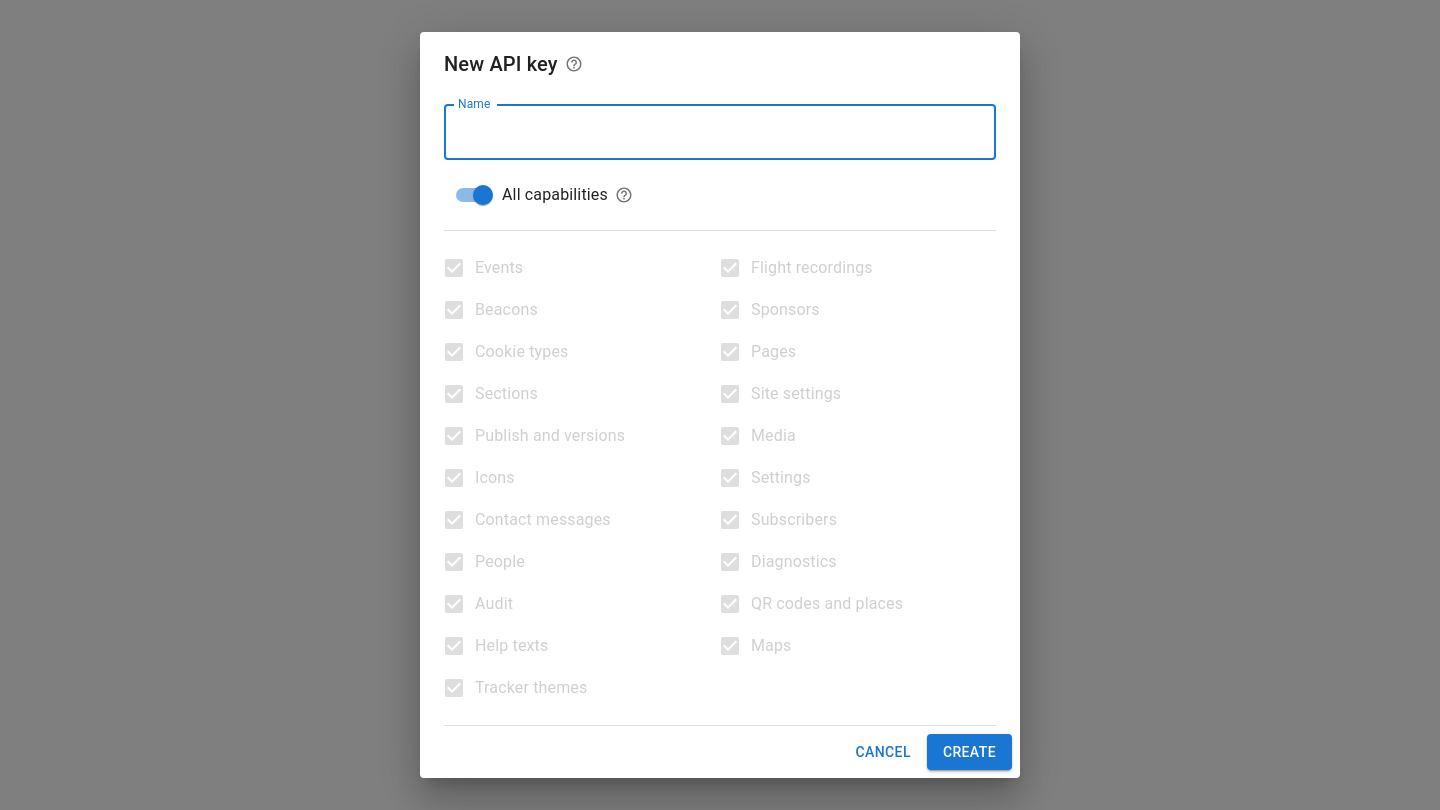
Test: ApiKeyCreateDialog validation › requires a non-empty name
This screenshot has width=1440, height=810.
Click the button "Create": {"x": 969, "y": 752} 927,734 -> 1012,770
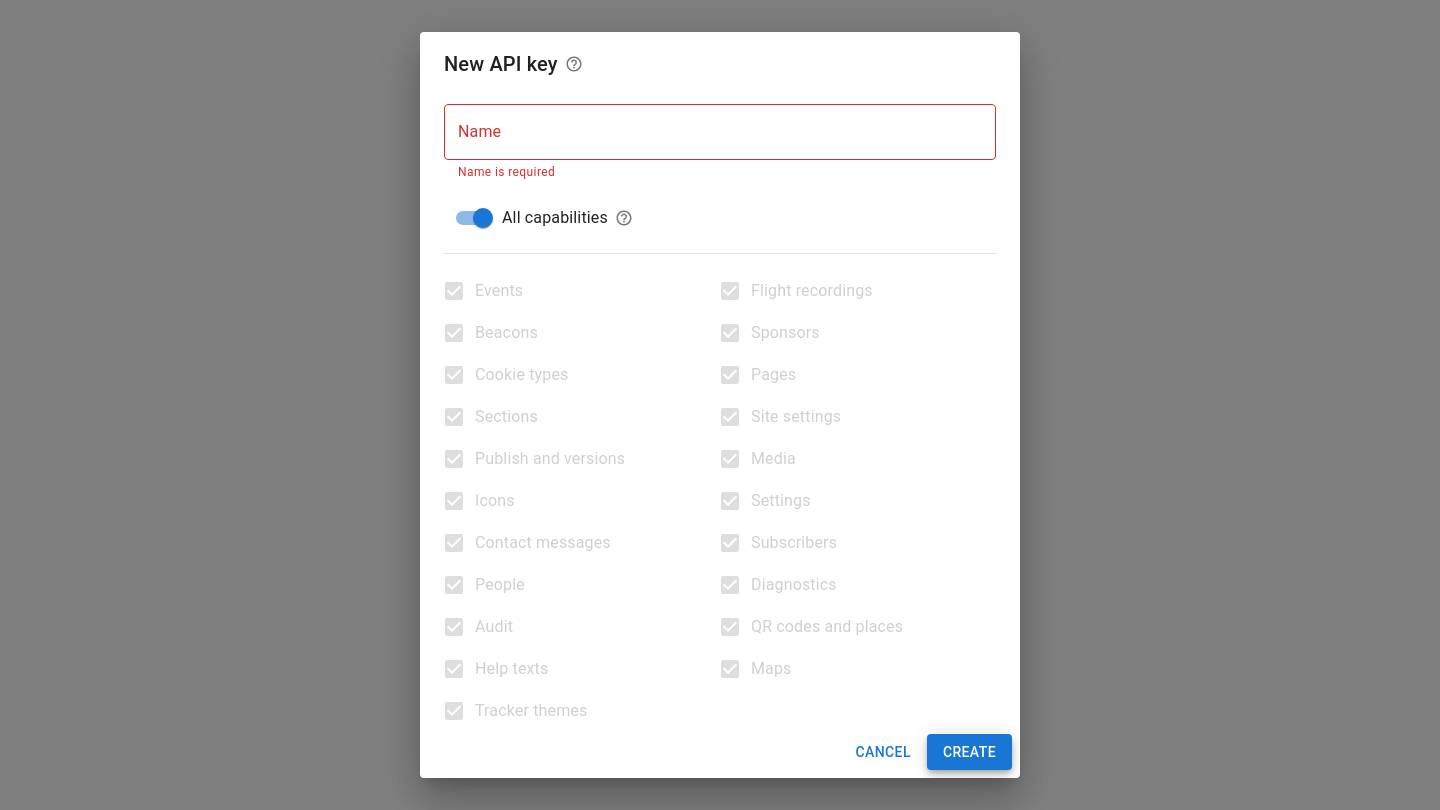
Expected: the text "Name is required" is shown, 458,165 -> 555,179
